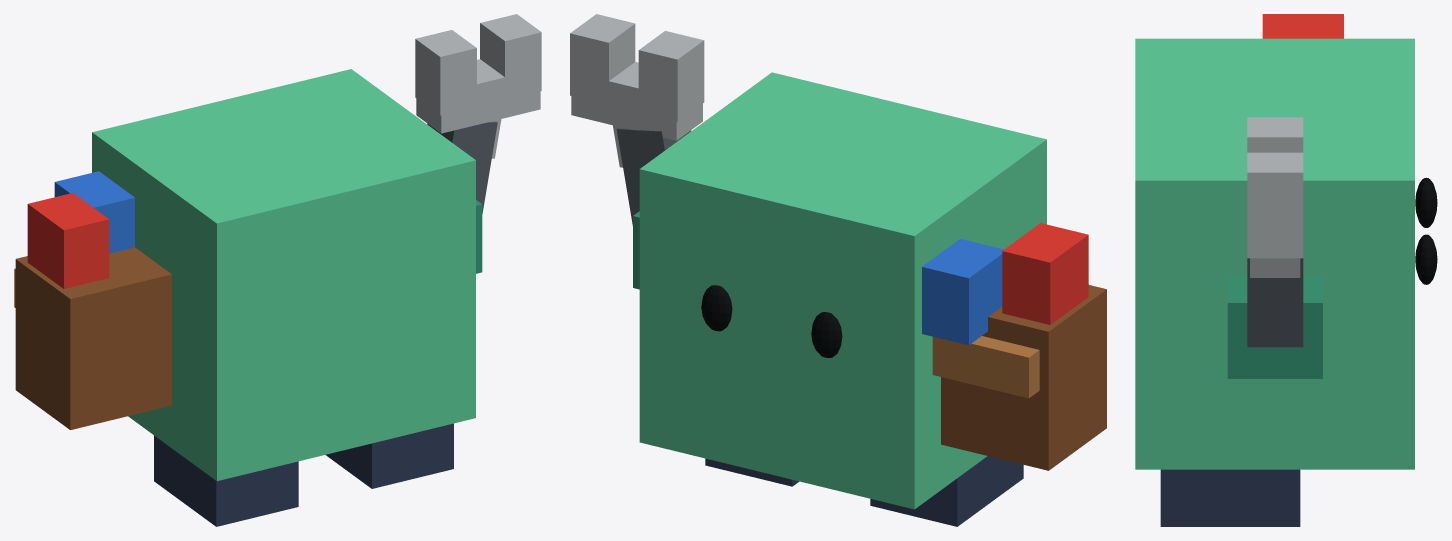
Rendered from FixItBot_Block.gltf.
3 views of the same model, side by side, from view 1: azimuth 30°, elevation 25°; view 2: azimuth 150°, elevation 25°; view 3: azimuth 270°, elevation 25° (orthographic). The views are drawn at different scales.
Visible parts, largest first — view 1: RepairBody, PouchBody, FootLeft, SpareBrickRed, WrenchJawBase, FootRight, WrenchJawLeft, WrenchJawRight, SpareBrickBlue, ToolGrip; view 2: RepairBody, PouchBody, SpareBrickRed, SpareBrickBlue, WrenchJawBase, PouchFlap, WrenchJawLeft, FootLeft, WrenchJawRight, ToolGrip, EyeRight, EyeLeft (+1 smaller); view 3: RepairBody, FootRight, ToolShoulder, WrenchJawRight, ToolGrip, WrenchJawLeft, SpareBrickRed, WrenchJawBase, WrenchNeck, EyeRight, EyeLeft.
Boxes of the visible parts, bbox=[...] form: RepairBody: bbox=[92, 69, 475, 481]; PouchBody: bbox=[15, 247, 171, 429]; FootLeft: bbox=[154, 435, 298, 526]; SpareBrickRed: bbox=[27, 193, 109, 288]; WrenchJawBase: bbox=[416, 59, 540, 133]; FootRight: bbox=[325, 423, 453, 488]; WrenchJawLeft: bbox=[415, 30, 476, 115]; WrenchJawRight: bbox=[480, 14, 541, 90]; SpareBrickBlue: bbox=[54, 171, 134, 253]; ToolGrip: bbox=[427, 121, 497, 213]; RepairBody: bbox=[639, 72, 1046, 509]; PouchBody: bbox=[941, 285, 1106, 470]; SpareBrickRed: bbox=[1002, 223, 1088, 324]; SpareBrickBlue: bbox=[922, 239, 1003, 345]; WrenchJawBase: bbox=[571, 62, 702, 140]; PouchFlap: bbox=[932, 336, 1039, 398]; WrenchJawLeft: bbox=[638, 31, 704, 121]; FootLeft: bbox=[870, 456, 1023, 526]; WrenchJawRight: bbox=[570, 14, 635, 104]; ToolGrip: bbox=[616, 128, 691, 225]; EyeRight: bbox=[701, 285, 732, 331]; EyeLeft: bbox=[811, 312, 842, 357]; RepairBody: bbox=[1135, 38, 1414, 469]; FootRight: bbox=[1160, 469, 1300, 526]; ToolShoulder: bbox=[1227, 277, 1322, 378]; WrenchJawRight: bbox=[1247, 152, 1303, 238]; ToolGrip: bbox=[1247, 258, 1303, 347]; WrenchJawLeft: bbox=[1247, 117, 1303, 152]; SpareBrickRed: bbox=[1262, 14, 1343, 38]; WrenchJawBase: bbox=[1247, 238, 1303, 258]; WrenchNeck: bbox=[1250, 258, 1300, 277]; EyeRight: bbox=[1415, 234, 1437, 284]; EyeLeft: bbox=[1415, 177, 1437, 227].
Bounding box in the file's own units: 2.21 × 1.67 × 1.08.
